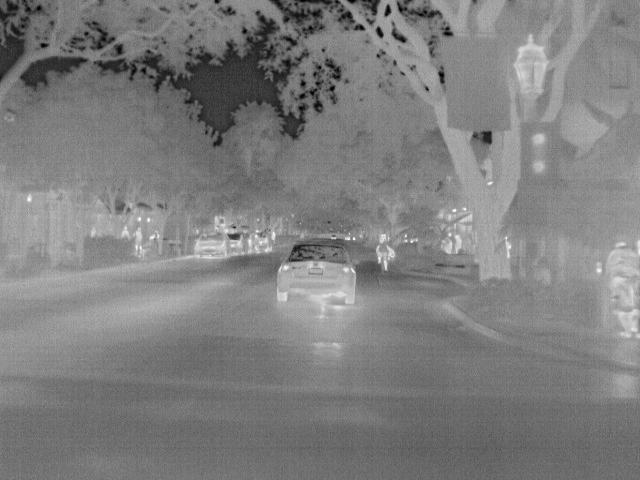car: (277, 244, 357, 304), (193, 232, 232, 261), (225, 230, 248, 255), (254, 234, 275, 253)
person: (604, 238, 639, 340), (374, 237, 391, 265), (130, 224, 145, 255), (120, 223, 132, 241)
